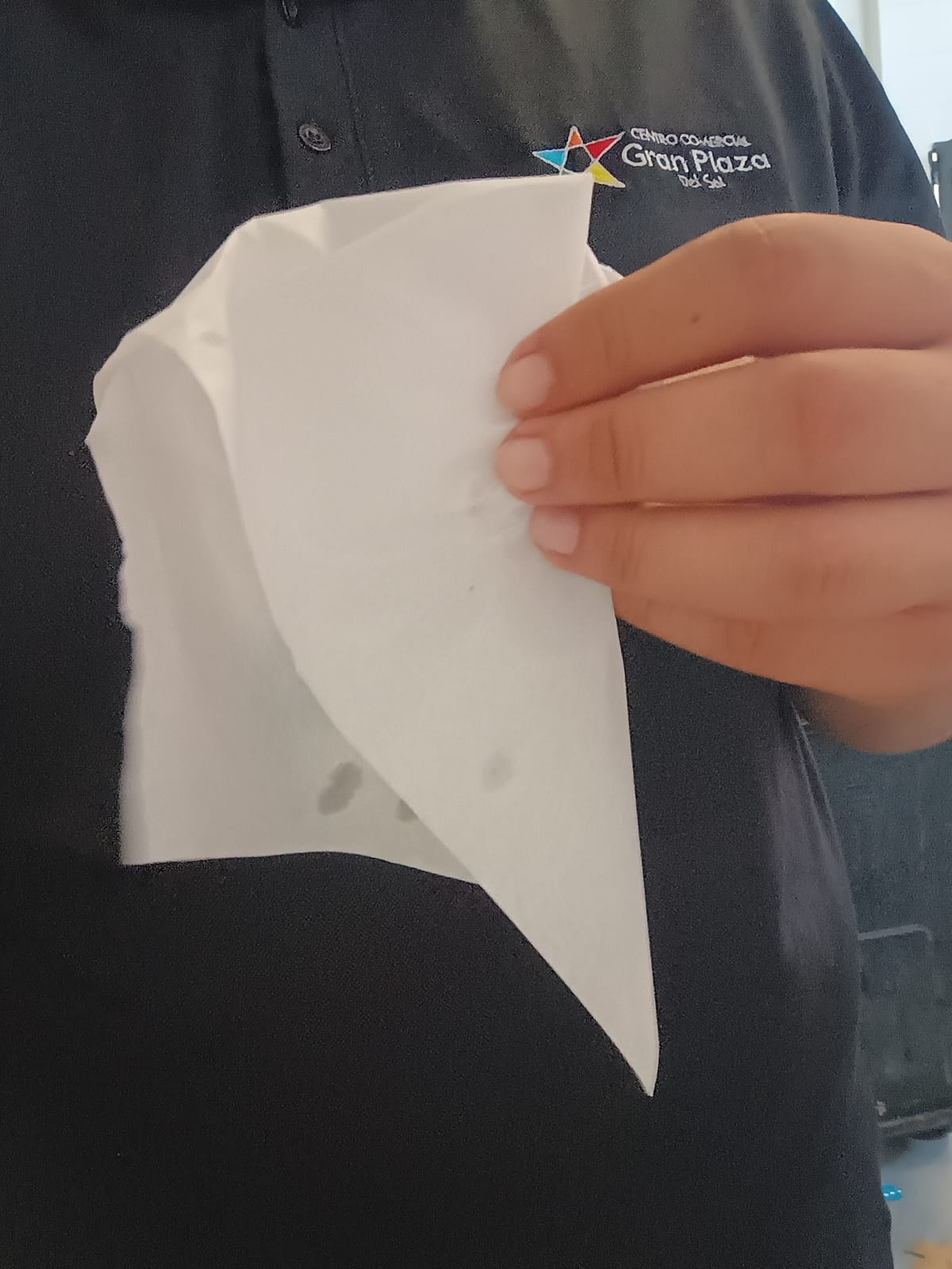Papel: (85, 177, 669, 1097)
